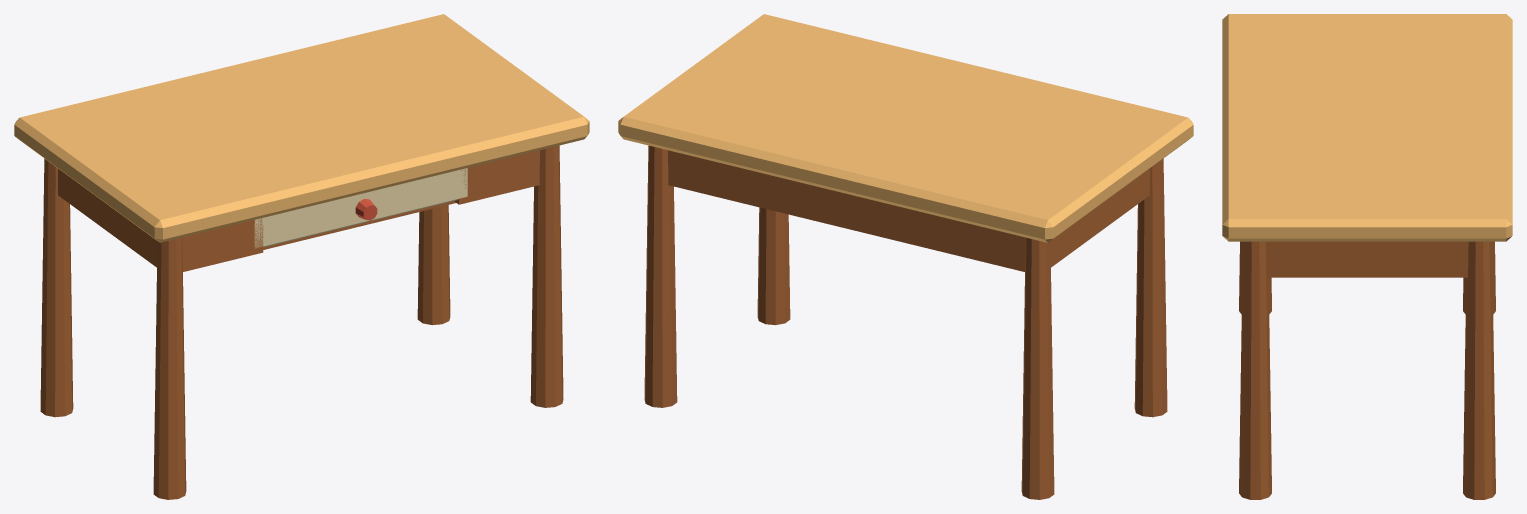
File: Table.glb
The picture shows the model from 3 angles, left to right: view 1: azimuth 30°, elevation 25°; view 2: azimuth 150°, elevation 25°; view 3: azimuth 270°, elevation 25°; orthographic projection.
Parts seen in each view (by area): view 1: Table_Top, Table_Leg-1-1, Table_Leg1-1, Table_Leg-11, Drawer_0_Front.001, Table_Leg11, Table_ApronFL, Table_ApronL, Table_ApronFR; view 2: Table_Top, Table_ApronB, Table_Leg-11, Table_Leg11, Table_Leg-1-1, Table_Leg1-1, Table_ApronL; view 3: Table_Top, Table_Leg1-1, Table_Leg11, Table_ApronR, Table_Leg-1-1, Table_Leg-11.
Part boxes in pixels (left/top/right/bottom): Table_Top: left=14, top=14, right=589, bottom=242; Table_Leg-1-1: left=153, top=237, right=186, bottom=499; Table_Leg1-1: left=530, top=145, right=563, bottom=407; Table_Leg-11: left=40, top=158, right=73, bottom=417; Drawer_0_Front.001: left=254, top=168, right=467, bottom=248; Table_Leg11: left=417, top=205, right=450, bottom=325; Table_ApronFL: left=182, top=218, right=263, bottom=271; Table_ApronL: left=58, top=168, right=157, bottom=267; Table_ApronFR: left=454, top=150, right=539, bottom=204; Table_Top: left=618, top=14, right=1193, bottom=242; Table_ApronB: left=668, top=150, right=1025, bottom=271; Table_Leg-11: left=1021, top=237, right=1054, bottom=499; Table_Leg11: left=644, top=145, right=677, bottom=407; Table_Leg-1-1: left=1134, top=158, right=1167, bottom=417; Table_Leg1-1: left=757, top=207, right=790, bottom=325; Table_ApronL: left=1050, top=168, right=1149, bottom=267; Table_Top: left=1222, top=14, right=1512, bottom=241; Table_Leg1-1: left=1239, top=241, right=1271, bottom=499; Table_Leg11: left=1463, top=241, right=1495, bottom=499; Table_ApronR: left=1266, top=241, right=1468, bottom=277; Table_Leg-1-1: left=1239, top=241, right=1271, bottom=313; Table_Leg-11: left=1463, top=241, right=1495, bottom=313.
Size of the model in its own units: 1.2 by 0.76 by 0.7.
